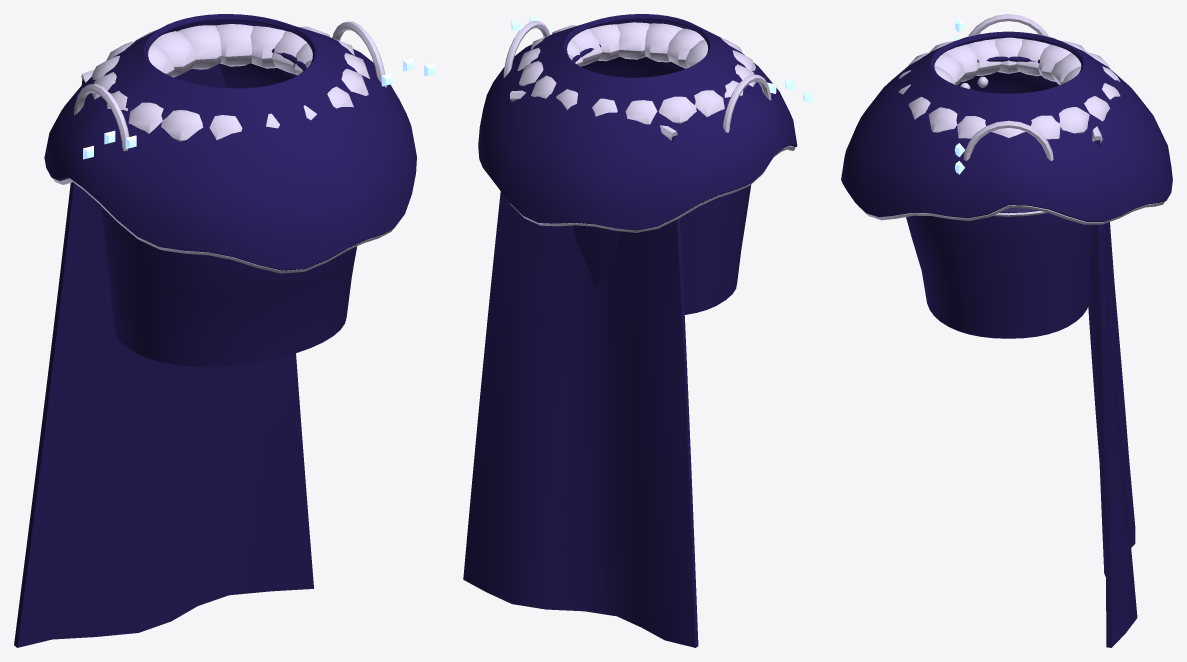
File: asc_eclipse_oracle_armor.glb
3 views of the same model, side by side, from view 1: azimuth 30°, elevation 25°; view 2: azimuth 150°, elevation 25°; view 3: azimuth 270°, elevation 25° (orthographic). The views are drawn at different scales.
Visible parts, largest first — view 1: asc_eclipse_oracle_armor; view 2: asc_eclipse_oracle_armor; view 3: asc_eclipse_oracle_armor.
Part boxes in pixels (left/top/right/bottom): asc_eclipse_oracle_armor: left=14, top=14, right=434, bottom=647; asc_eclipse_oracle_armor: left=463, top=14, right=812, bottom=647; asc_eclipse_oracle_armor: left=841, top=14, right=1172, bottom=647.
Bounding box in the file's own units: 0.7426 × 1.24 × 0.7093.
